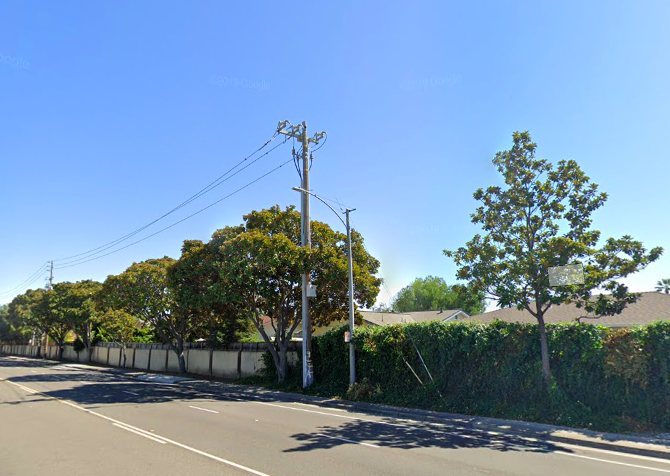tree: (442, 130, 664, 383), (219, 203, 384, 384)
utility_pole: (266, 108, 334, 181)
